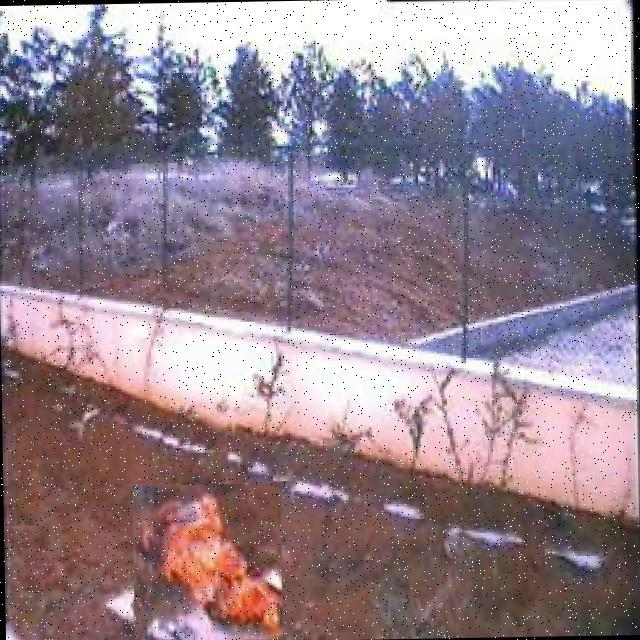fire: (131, 482, 282, 640)
